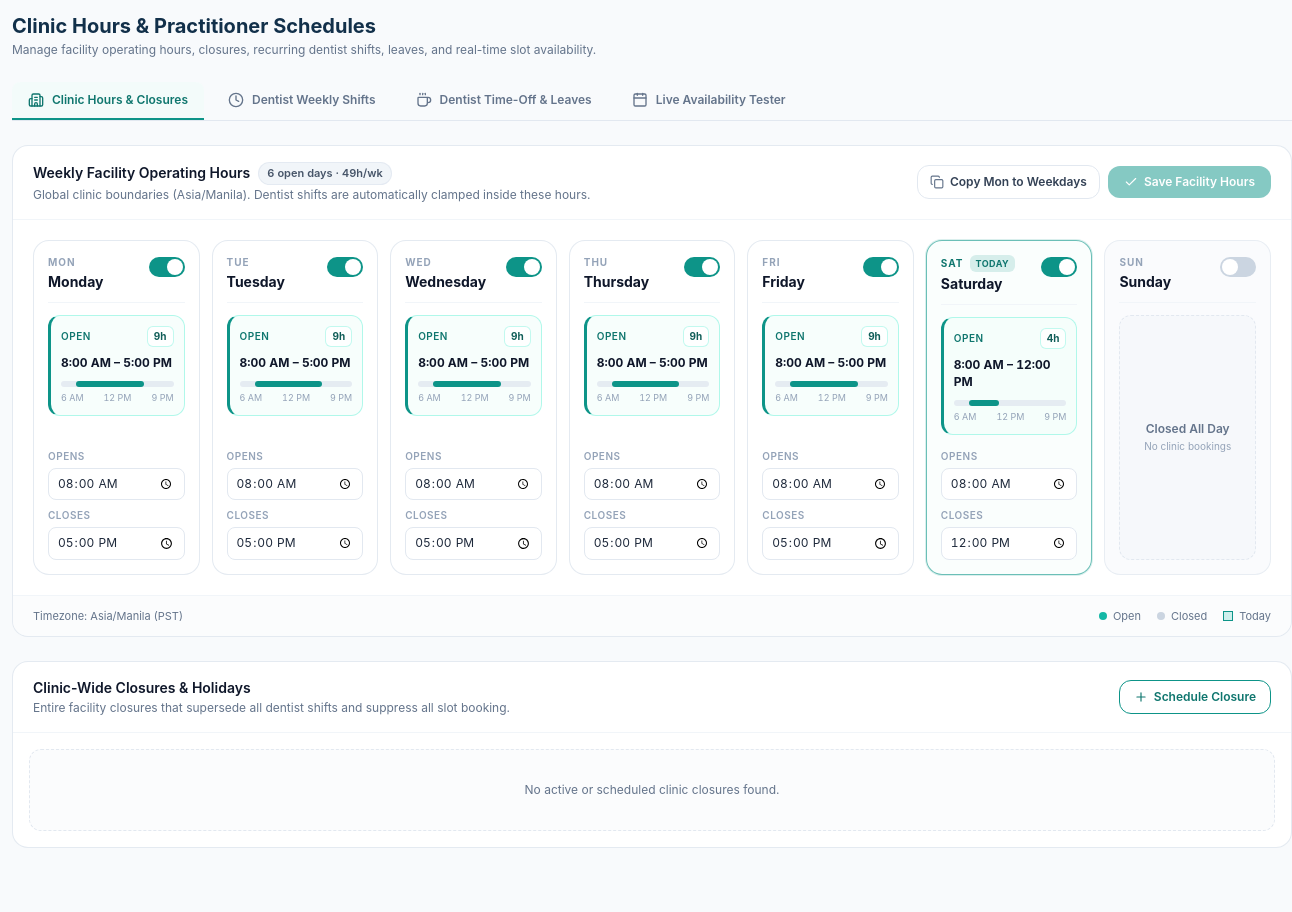
it: AdminSchedulePage Component › supports intuitive Open/Closed switches, validation, Copy Mon to Weekdays, and saving for Admins
The image size is (1292, 912).
Check: the switch named "Monday clinic open status" is shown, box 149,256 -> 185,276
Check: the button "Save Facility Hours" is disabled, box 1108,166 -> 1271,198
Note: Invalid time range blocks saving
Replace the text in the time field named "Monday closing time" with "07:00". click: (116, 543)
box: 48,527 -> 185,560
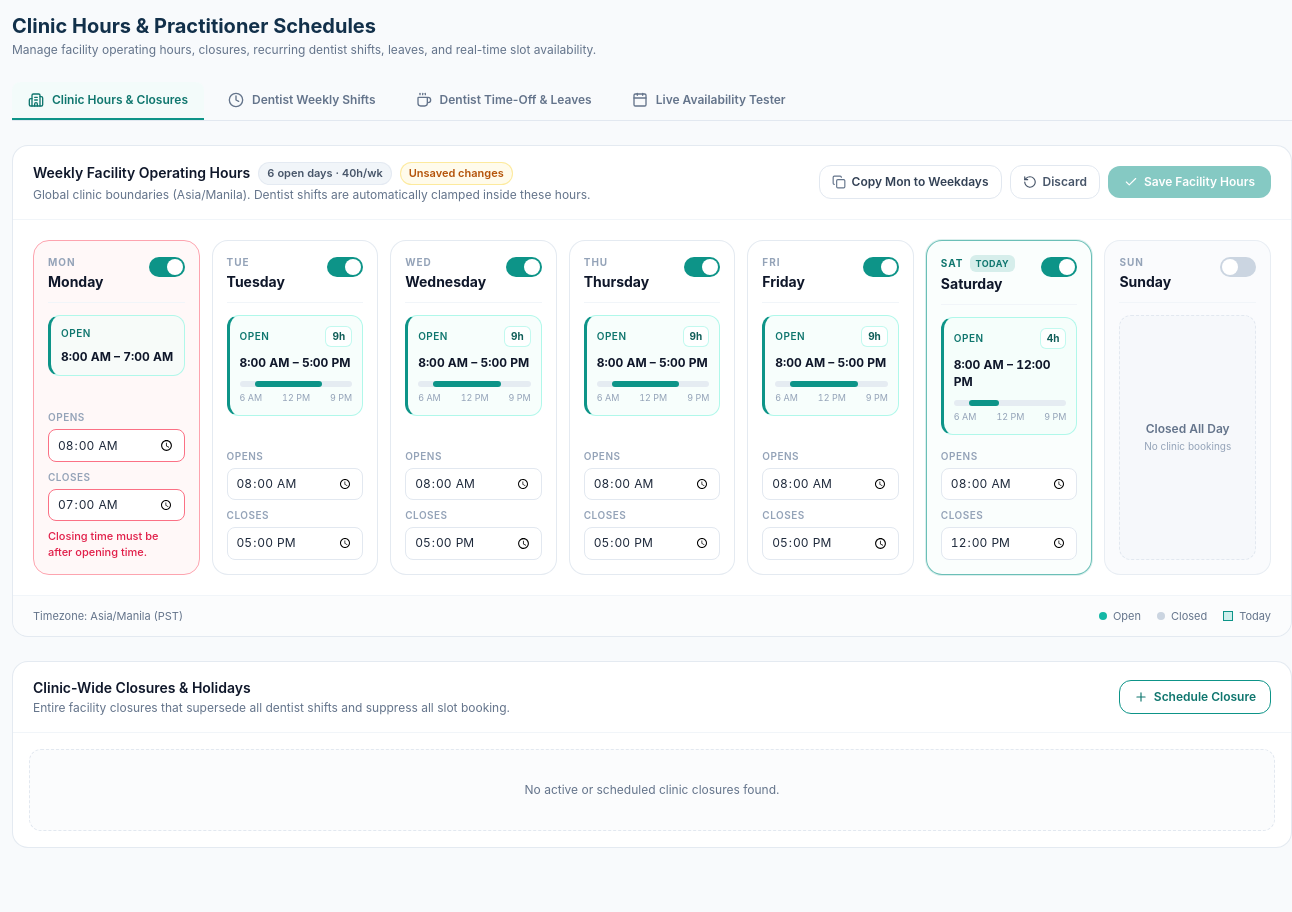
Check: the button "Save Facility Hours" is disabled, box 1108,166 -> 1271,198
Check: the text "Closing time must be after opening time." is shown, box 48,529 -> 158,558
Note: Fix Monday closing time to 18:00 and copy to weekdays
Replace the text in the time field named "Monday closing time" with "18:00". click: (116, 505)
box: 48,489 -> 185,521
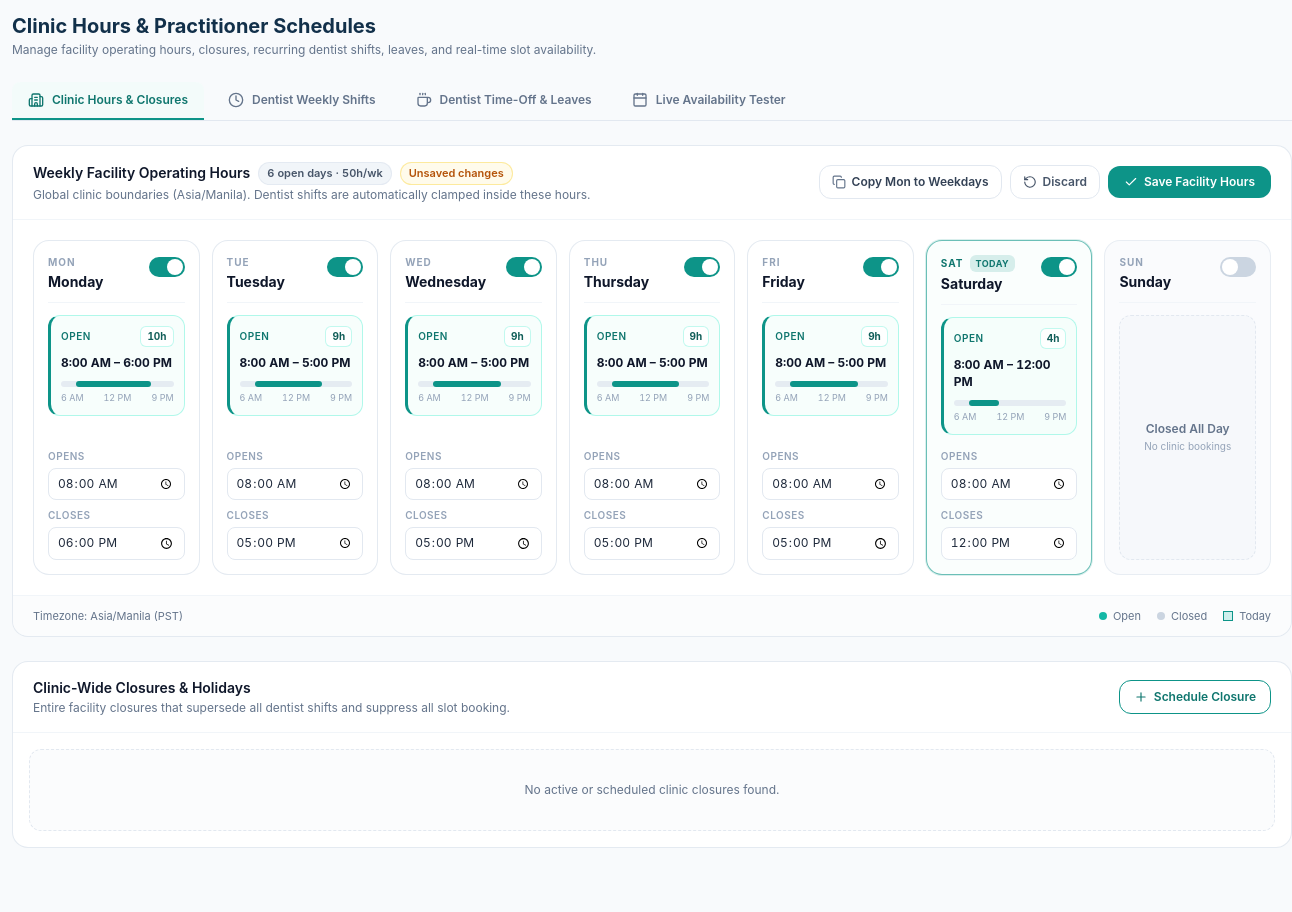
Check: the text "Closing time must be after opening time." is gone
Click the button "Copy Mon to Weekdays". click: (910, 182)
box: 819,165 -> 1002,199
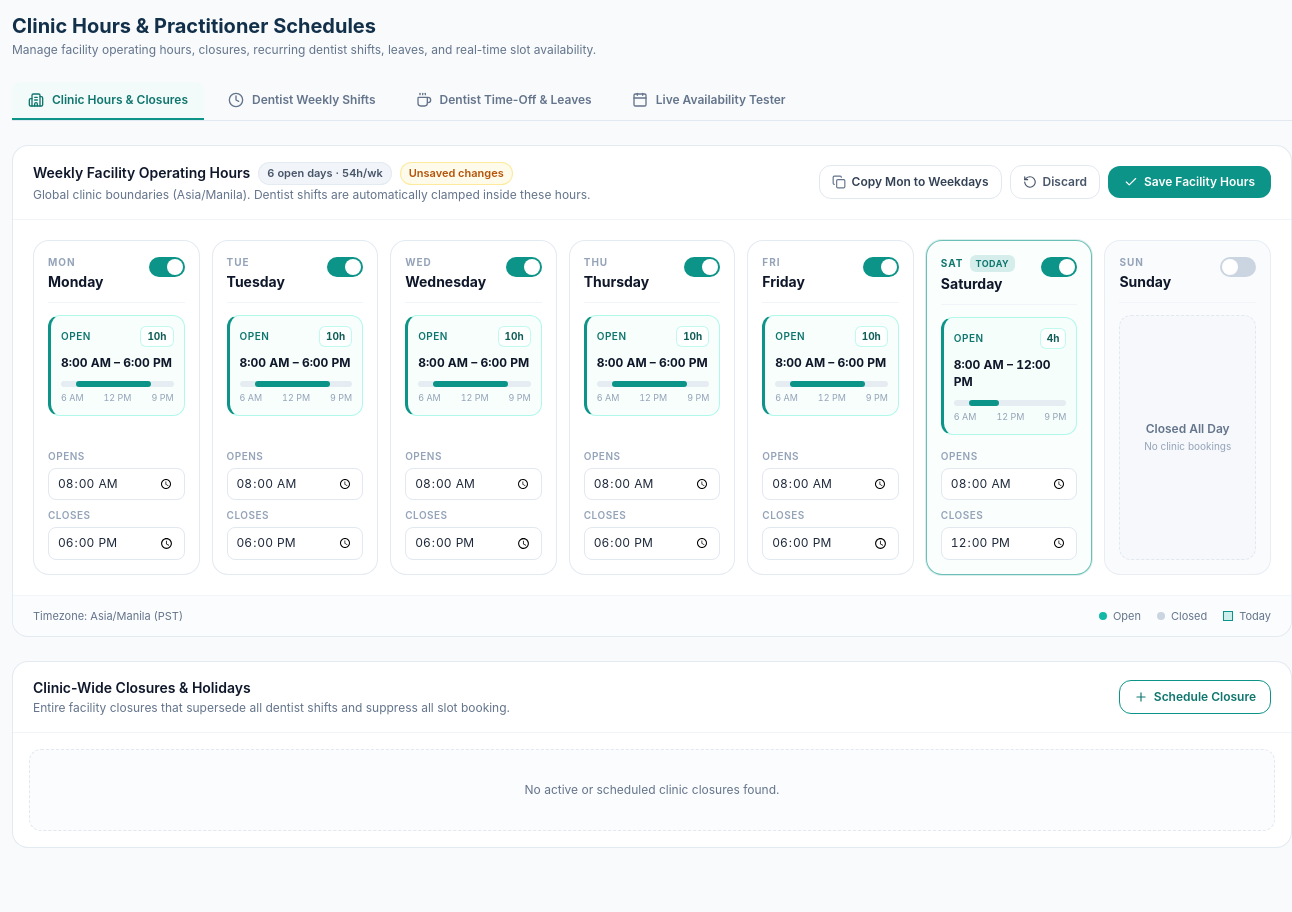
Check: the button "Save Facility Hours" is enabled
Click the button "Save Facility Hours". click: (1189, 182)
box: 1108,166 -> 1271,198
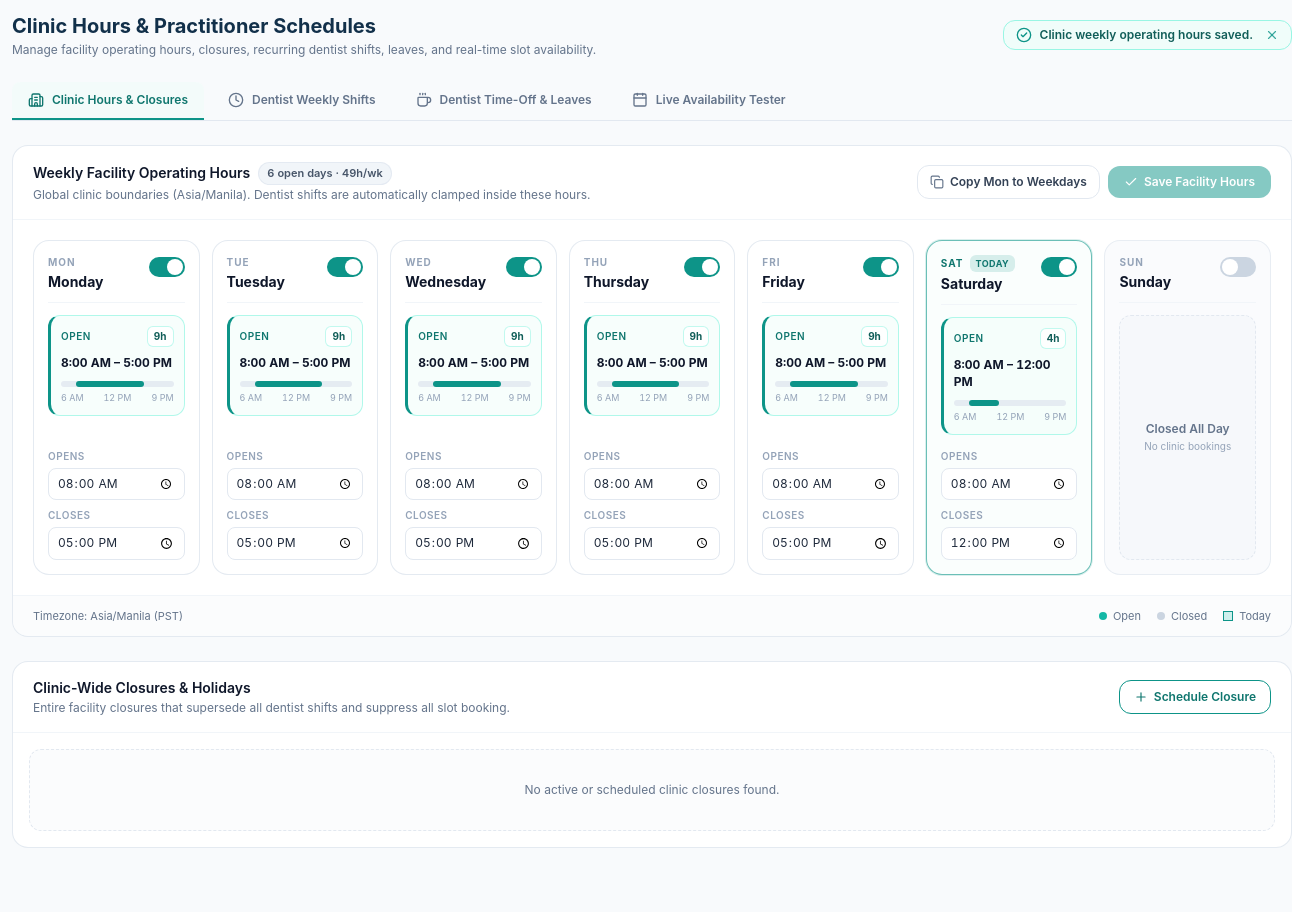
Check: the text "Clinic weekly operating hours saved." is shown, box 1040,27 -> 1253,43
